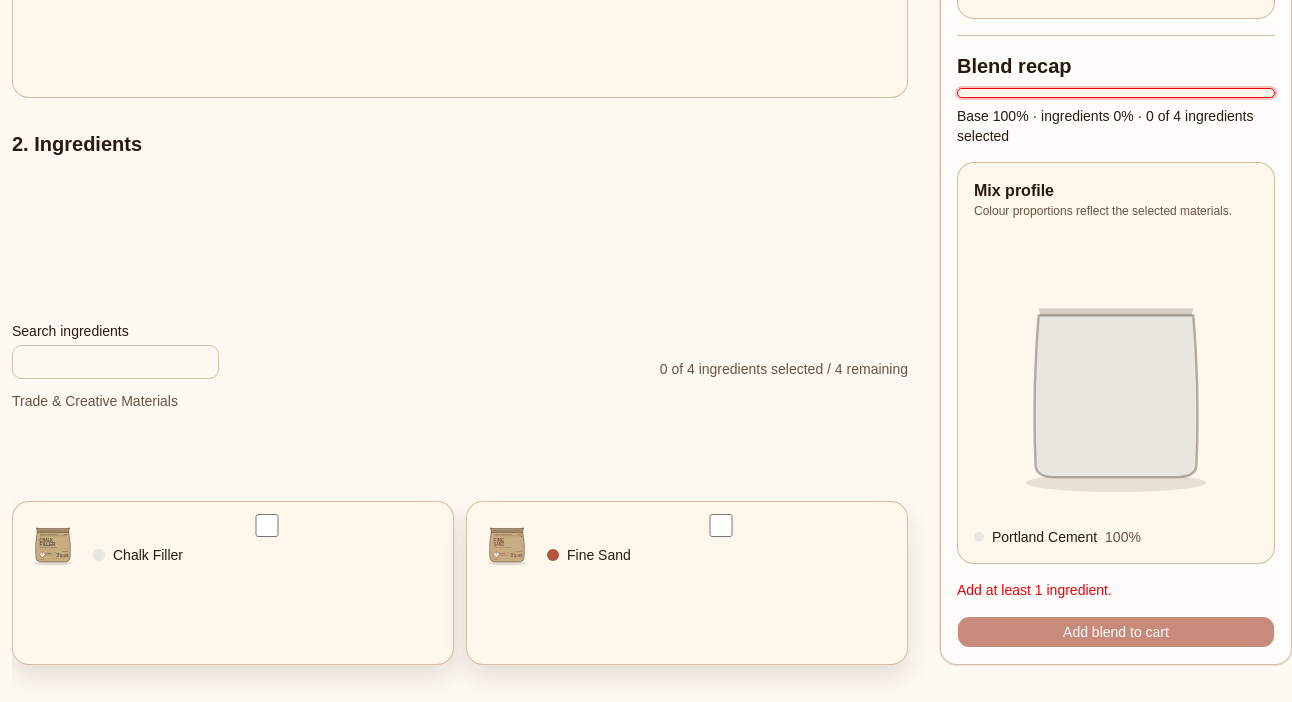
Test case: CustomBlendPage › shows non-food classification from the server result without inferring from the base
The width and height of the screenshot is (1292, 702).
(page scrolled)
Step 1. Click the checkbox labelled "CHALK FILLER" → [267, 525], box [93,514,441,537]
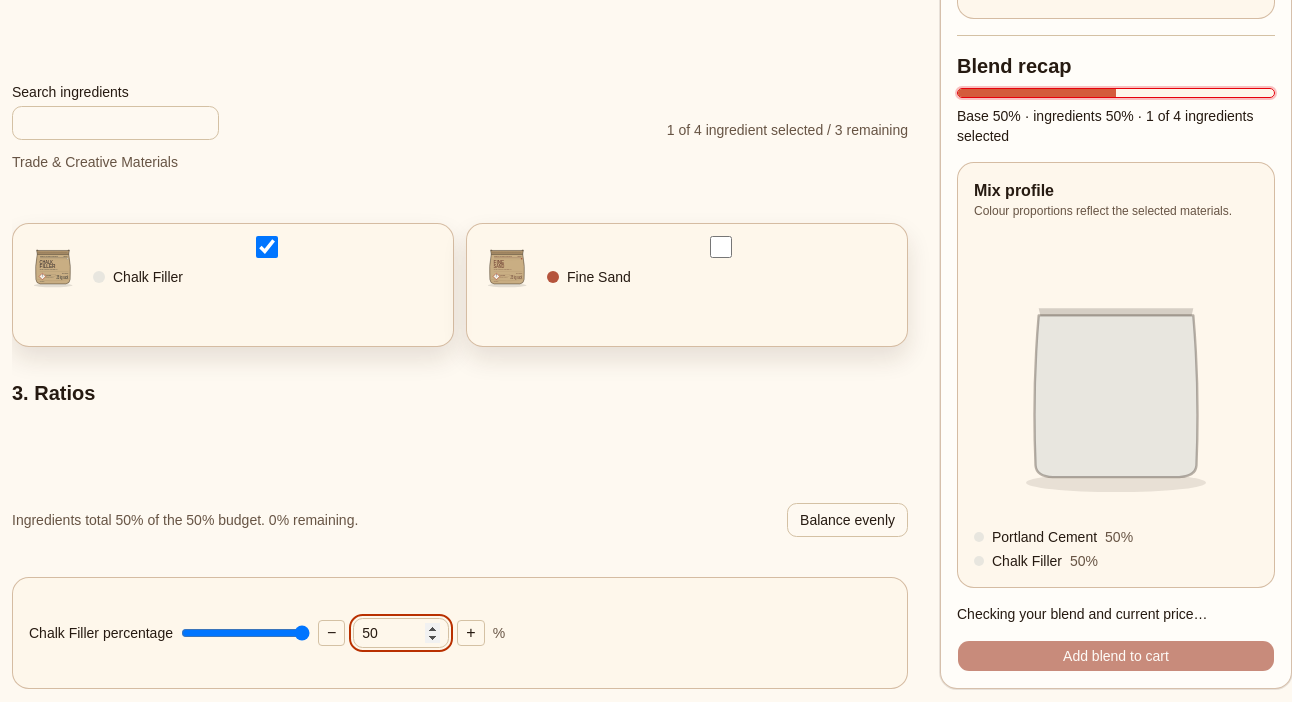
Step 2. Replace the text in the number field labelled "Chalk Filler percentage" with "20" → [401, 633], box [353,618,449,648]
(page scrolled)
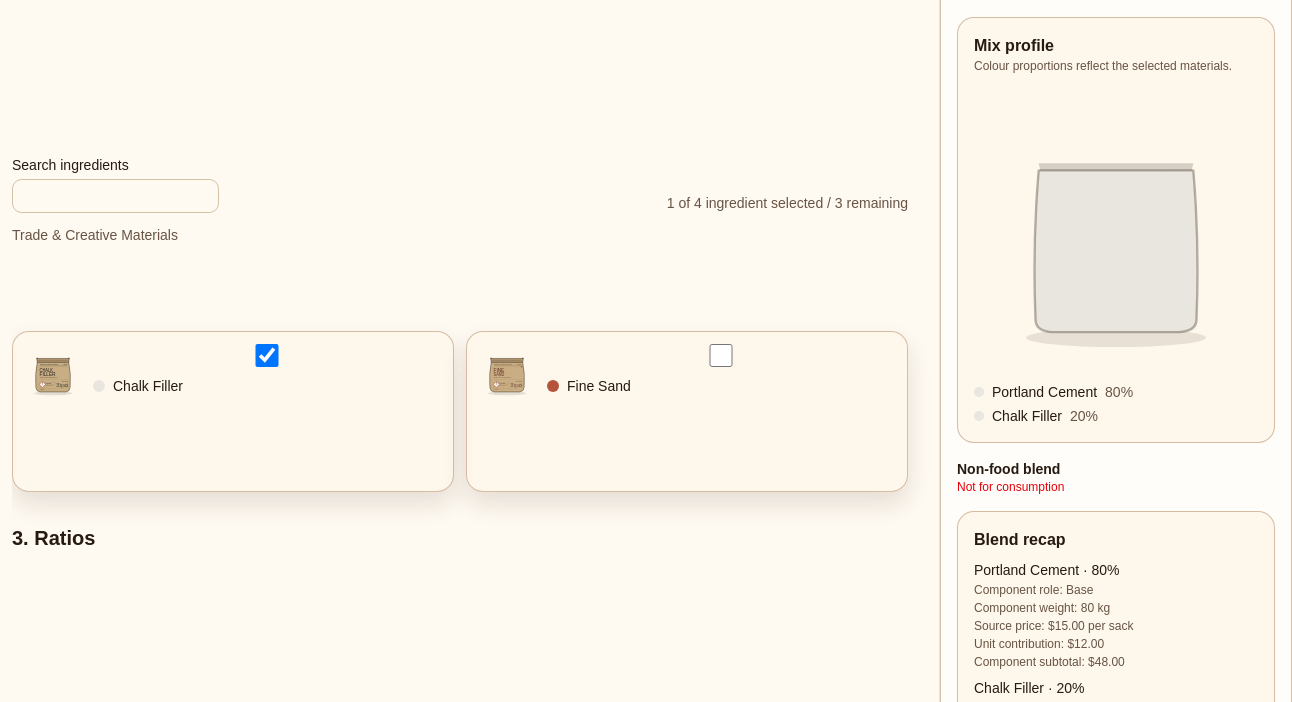
Result: the text "Non-food blend" is shown at [957,461,1060,477]
Result: the text "Not for consumption" is shown at [957,480,1064,494]
